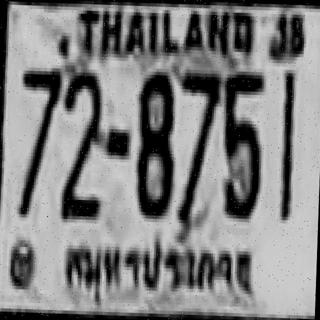N01: (277, 70, 294, 220)
N02: (58, 67, 104, 218)
N05: (219, 67, 263, 216)
N07: (16, 64, 61, 215), (175, 71, 219, 222)
N08: (135, 68, 175, 216)
P57: (58, 235, 258, 308)
